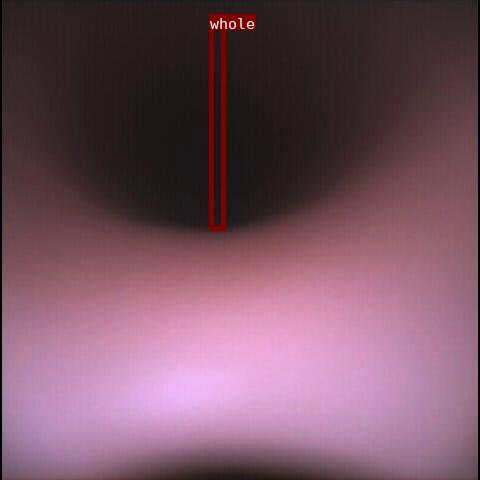whole: (209, 14, 225, 230)
